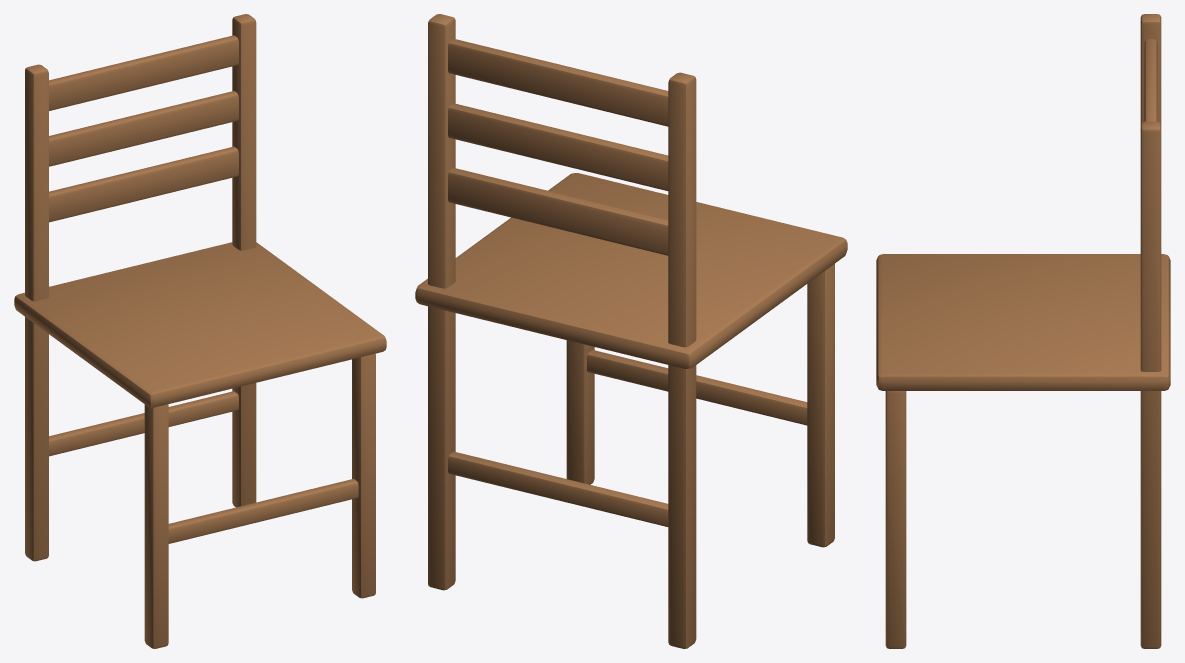
The model's file is chair_wood.glb.
3 views of the same model, side by side, from view 1: azimuth 30°, elevation 25°; view 2: azimuth 150°, elevation 25°; view 3: azimuth 270°, elevation 25° (orthographic). The views are drawn at different scales.
Parts seen in each view (by area): view 1: box.004, box.001, box.003, box, box.007, box.005, box.006, box.002, box.008, box.009; view 2: box.004, box.001, box.003, box.005, box.006, box.007, box, box.009, box.008, box.002; view 3: box.004, box.003, box.002, box.001, box.007.
Boxes of the visible parts, <box> form: box.004: <box>14,242,386,407</box>; box.001: <box>25,64,48,561</box>; box.003: <box>232,14,256,507</box>; box: <box>144,404,168,648</box>; box.007: <box>49,35,238,110</box>; box.005: <box>49,146,238,222</box>; box.006: <box>49,91,238,166</box>; box.002: <box>352,353,375,598</box>; box.008: <box>168,479,358,543</box>; box.009: <box>49,391,238,456</box>; box.004: <box>415,173,847,368</box>; box.001: <box>668,72,696,648</box>; box.003: <box>428,14,455,590</box>; box.005: <box>448,168,668,255</box>; box.006: <box>448,103,668,190</box>; box.007: <box>448,39,668,126</box>; box: <box>807,264,834,547</box>; box.009: <box>448,451,668,526</box>; box.008: <box>587,350,807,425</box>; box.002: <box>566,340,594,484</box>; box.004: <box>876,254,1170,390</box>; box.003: <box>1140,121,1161,648</box>; box.002: <box>885,391,906,648</box>; box.001: <box>1140,14,1161,124</box>; box.007: <box>1144,39,1157,121</box>.
Size of the model in its own units: 45 by 88 by 45.
